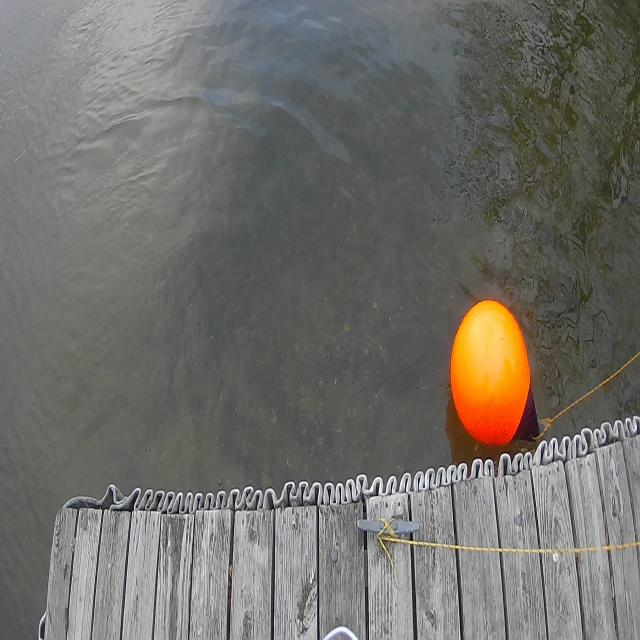Buoy: (448, 288, 544, 450)
